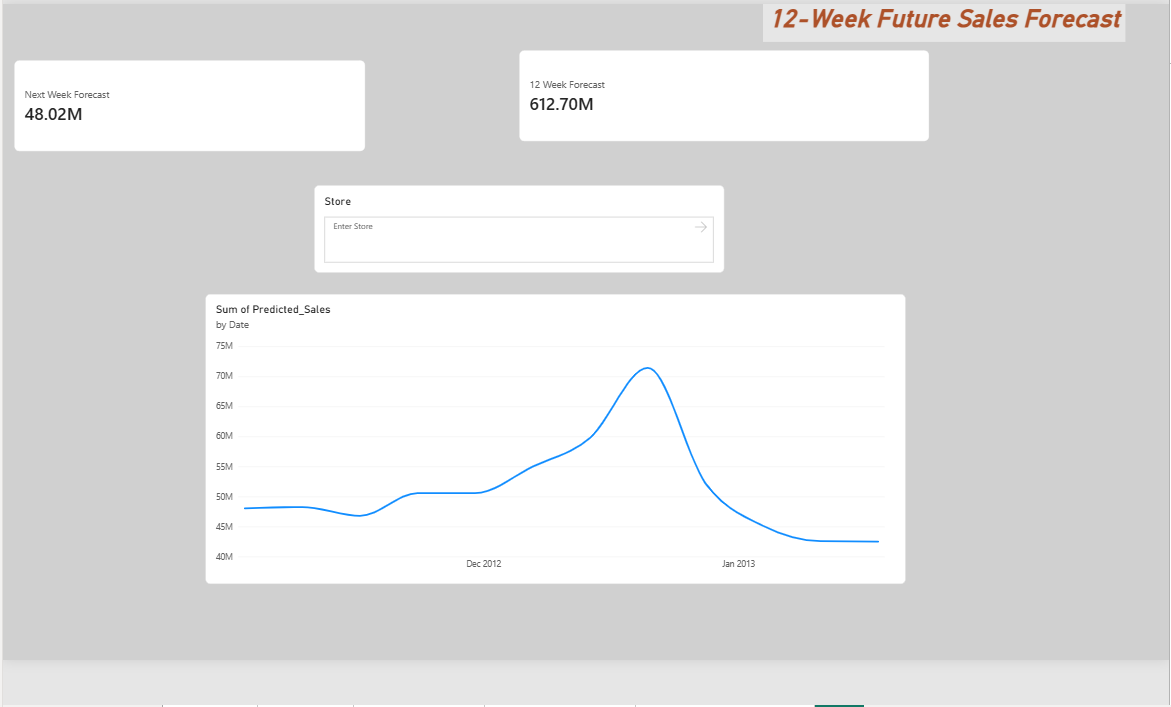

Layout of this report page (visuals, bound fields, positions):
{"tool":"powerbi","page":{"name":"FutureForecast","canvas":[1920,1080],"ordinal":3},"visuals":[{"type":"lineChart","fields":{"Category":["FutureForecast.Date"],"Y":["Sum(FutureForecast.Predicted_Sales)"]},"box":[333.4,477.5,1152.7,477.5],"z":0},{"type":"textSlicer","fields":{"Values":["FutureForecast.Store"]},"box":[512.5,298.5,675.1,144.1],"z":1000},{"type":"cardVisual","fields":{"Data":["ForecastData.Next Week Forecast"]},"box":[18.5,92.6,578.4,150.3],"z":2000},{"type":"cardVisual","fields":{"Data":["ForecastData.12 Week Forecast"]},"box":[850.1,76.2,675.1,150.3],"z":3000},{"type":"textbox","title":"12-Week Future Sales Forecast","box":[1251.5,0,597,150],"z":4000}]}

Visuals, with their boxes on the page's 1920x1080 design canvas (x1, y1, x2, y2). These are canvas units, not pixel positions in the 1171x707 screenshot, which may show the page scaled, cropped or inside an application window:
lineChart - FutureForecast.Date x Sum(FutureForecast.Predicted_Sales): 333/478/1486/955
textSlicer - FutureForecast.Store: 512/298/1188/443
cardVisual - ForecastData.Next Week Forecast: 18/93/597/243
cardVisual - ForecastData.12 Week Forecast: 850/76/1525/226
"12-Week Future Sales Forecast" textbox: 1252/0/1848/150
